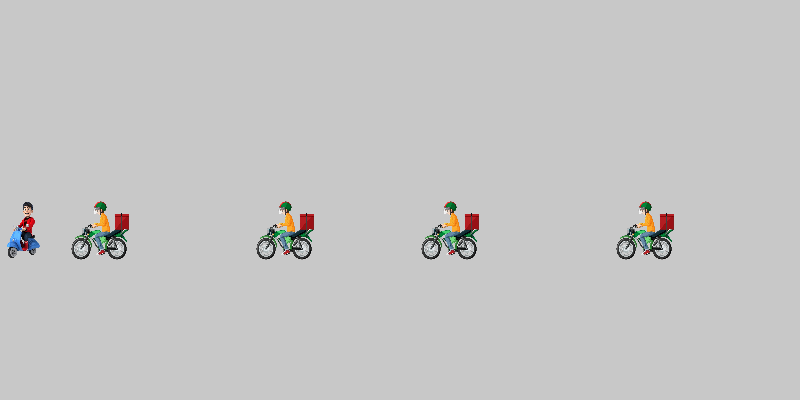helmet: (70, 200, 130, 260), (255, 200, 315, 260), (420, 200, 480, 260), (615, 200, 675, 260)
no_helmet: (0, 200, 55, 260)
